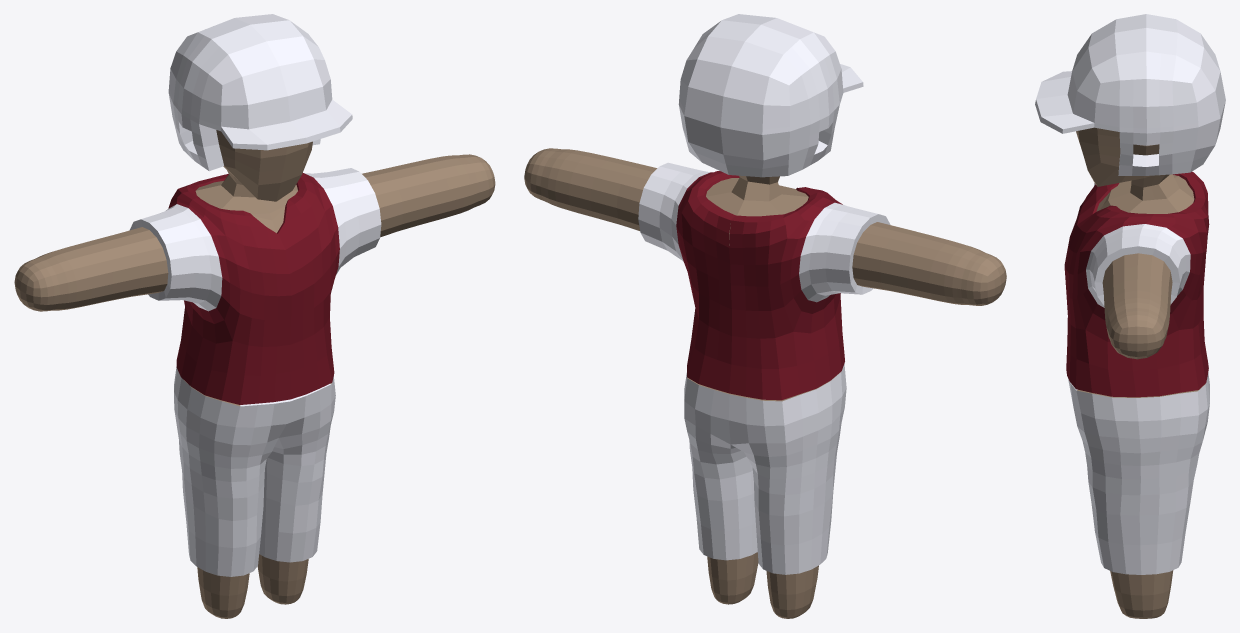
The model's file is Mod5.glb.
3 renders of one model, left to right at view 1: azimuth 30°, elevation 25°; view 2: azimuth 150°, elevation 25°; view 3: azimuth 270°, elevation 25°, orthographic.
Parts seen in each view (by area): view 1: Modelo 4b; view 2: Modelo 4b; view 3: Modelo 4b.
Boxes of the visible parts, left/top/right/bottom form: Modelo 4b: left=14, top=14, right=495, bottom=618; Modelo 4b: left=524, top=14, right=1006, bottom=618; Modelo 4b: left=1035, top=14, right=1225, bottom=618.
Bounding box in the file's own units: 7.96 × 9.37 × 2.83.
